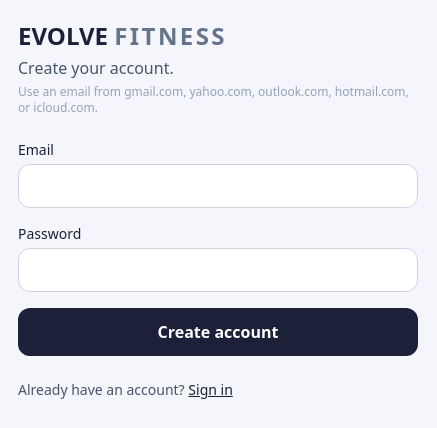
Test: SignUpScreen domain pre-check › blocks sign-up and shows an error for a disallowed (look-alike) domain
In the field labelled "Email": (218, 186) [18,164,418,208], type "someone@fakegmail.com"
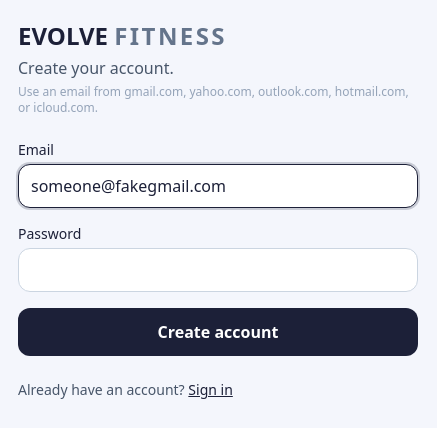
In the password field labelled "Password": (218, 270) [18,248,418,292], type "password123"
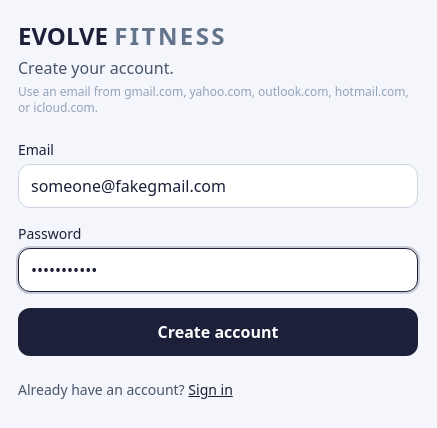
Click the button "Create account": (218, 332) [18,308,418,356]
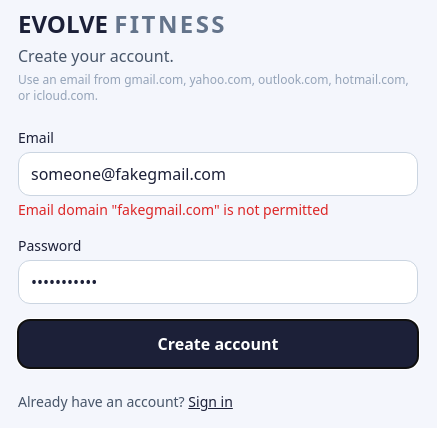
Expected: the text "Email domain \"fakegmail.com\" is not permitted" is shown, [18,200,329,219]
